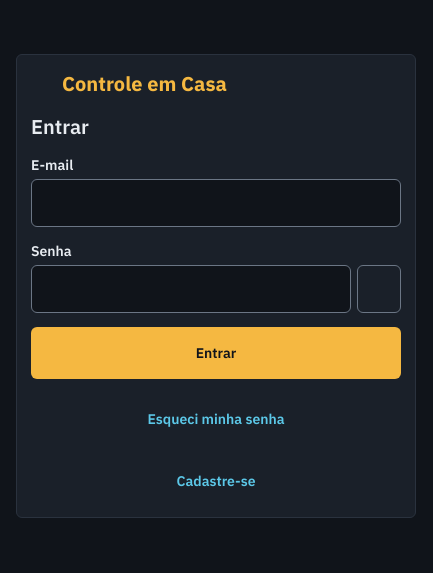
it: T01 Entrar › recusa "email_nao_confirmado": o alerta tem o texto próprio, sem o código
In the field labelled "E-mail": (216, 203) [31,179,401,227], type "leandro@exemplo.com"
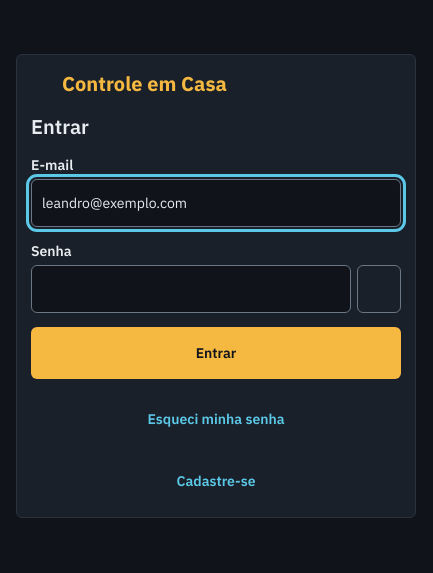
In the password field labelled "Senha": (191, 289) [31,265,351,313], type "senha-correta-123"
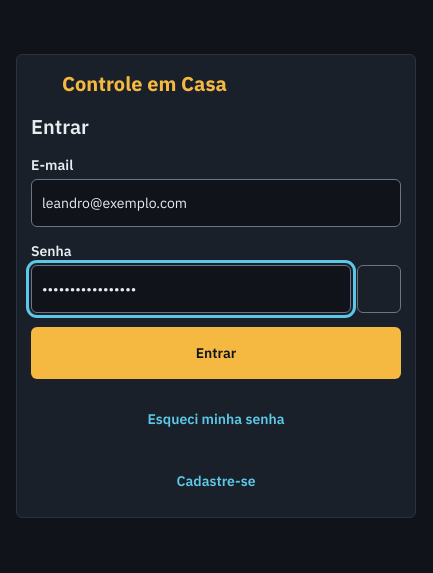
Click the button "Entrar": click(216, 353) [31,327,401,379]
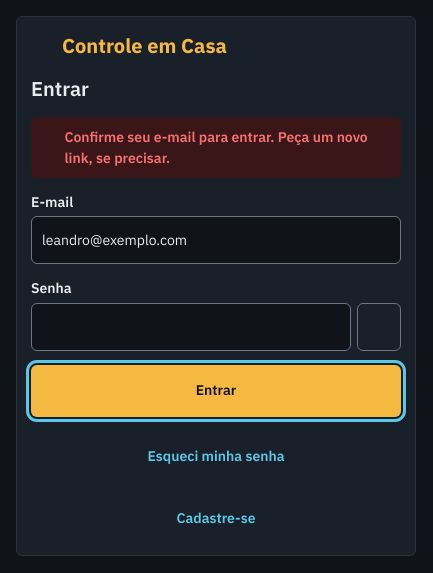
expect the message shows "Confirme seu e-mail": met, box [64,128,368,167]
